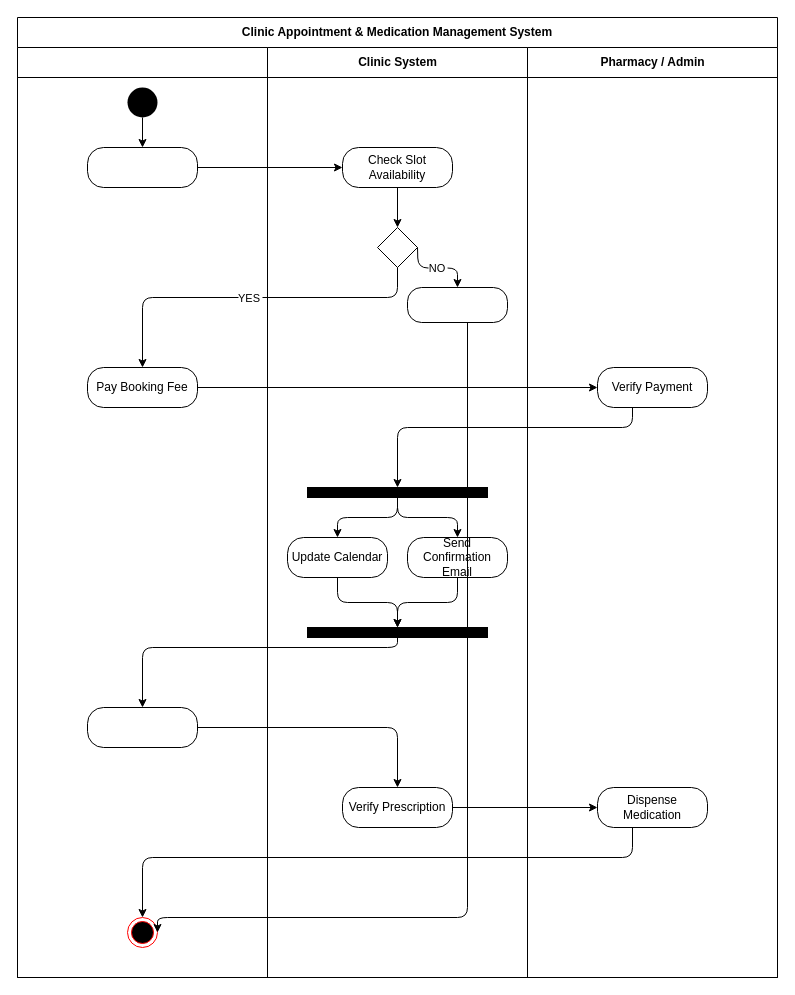
This 795x995 diagram has some shape labels left out. The shapes that lost their labels are listed below. From the top down, each one's box as (x1, y1, x2, y2) in pixels, then its label:
(86, 146, 198, 188): Request Appointment
(376, 226, 418, 268): available
(406, 286, 508, 322): Notify Unavailable
(16, 46, 268, 978): Patient
(86, 706, 198, 748): Submit Medication Order
